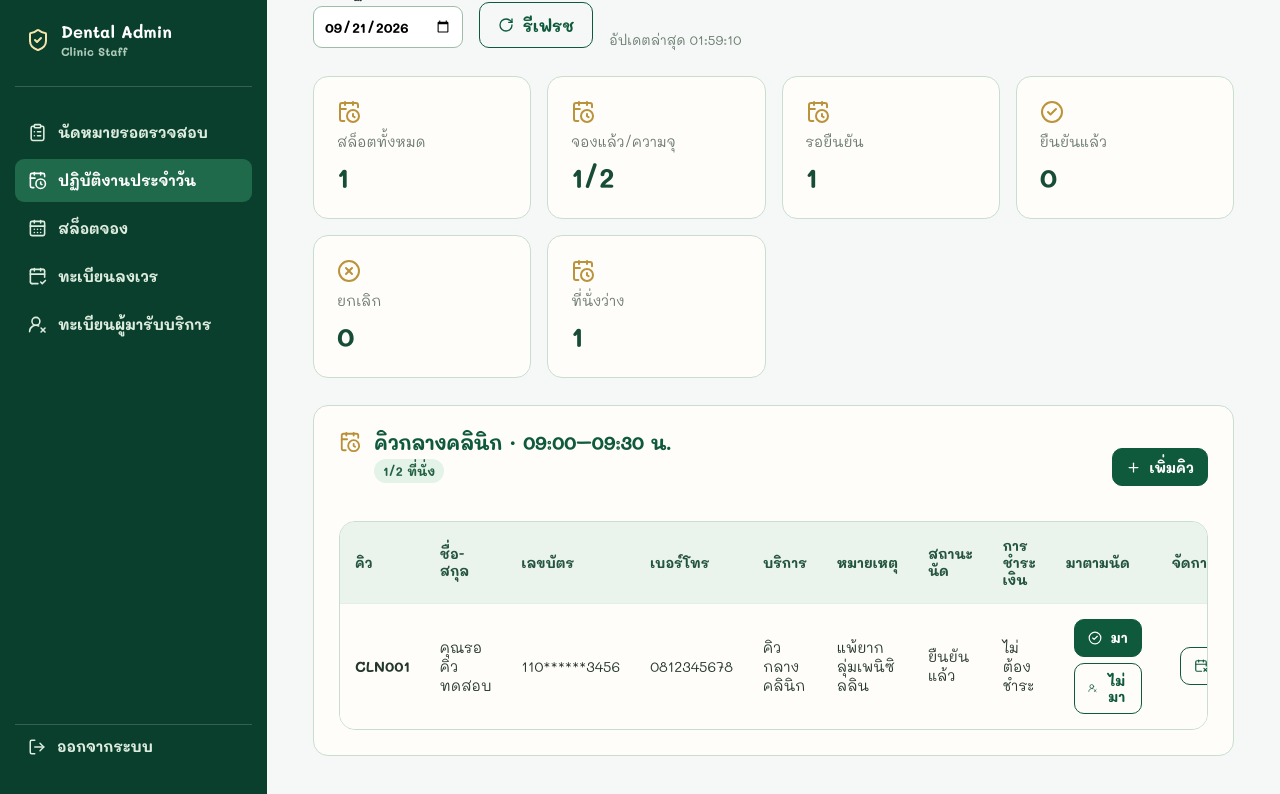
clinic SPA › daily queue board (/staff/queue) › lets Clinic Staff mark a confirmed appointment as served or no-show, but not a pending one
(page scrolled)
Expected: the text "CLN001" is shown, 355,657 -> 410,676
Click the button "มา" at (1108, 638), box 1074,619 -> 1142,657
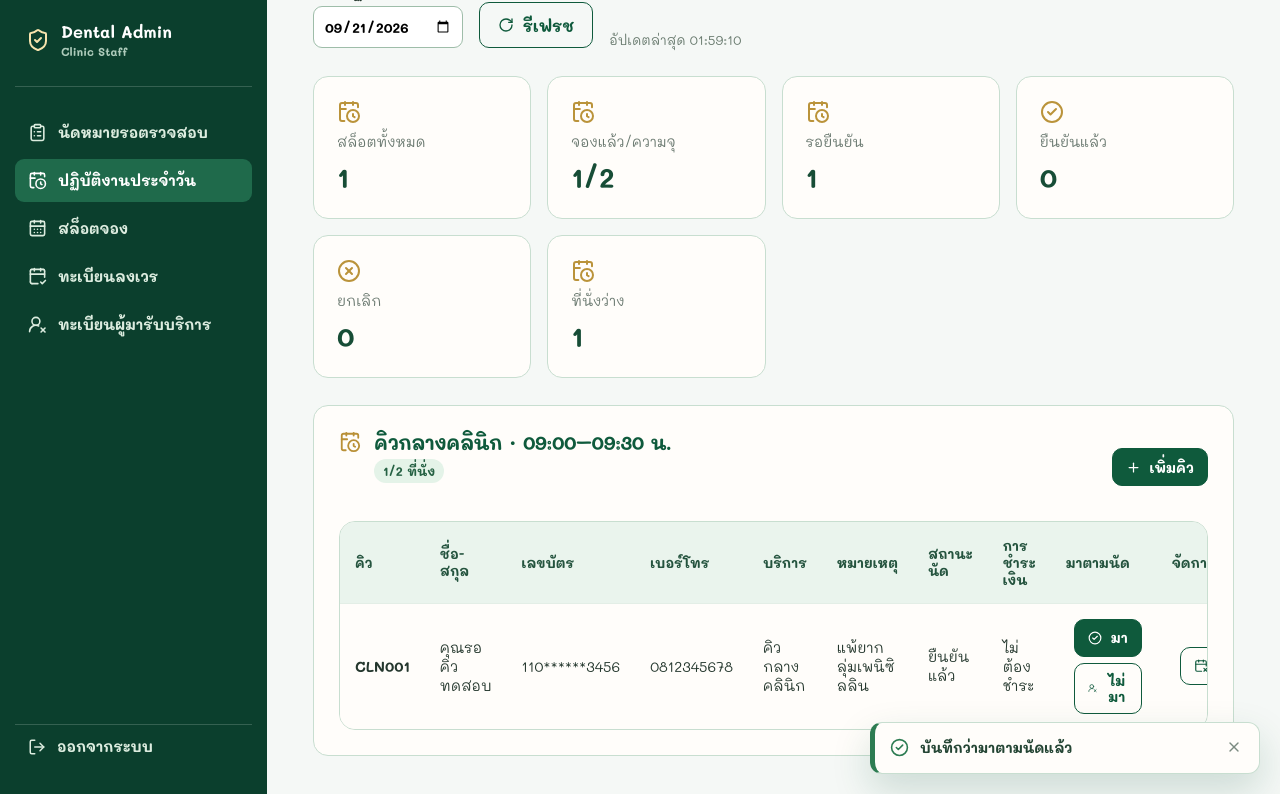
Now the text "บันทึกว่ามาตามนัดแล้ว" is shown, box 920,738 -> 1072,757
